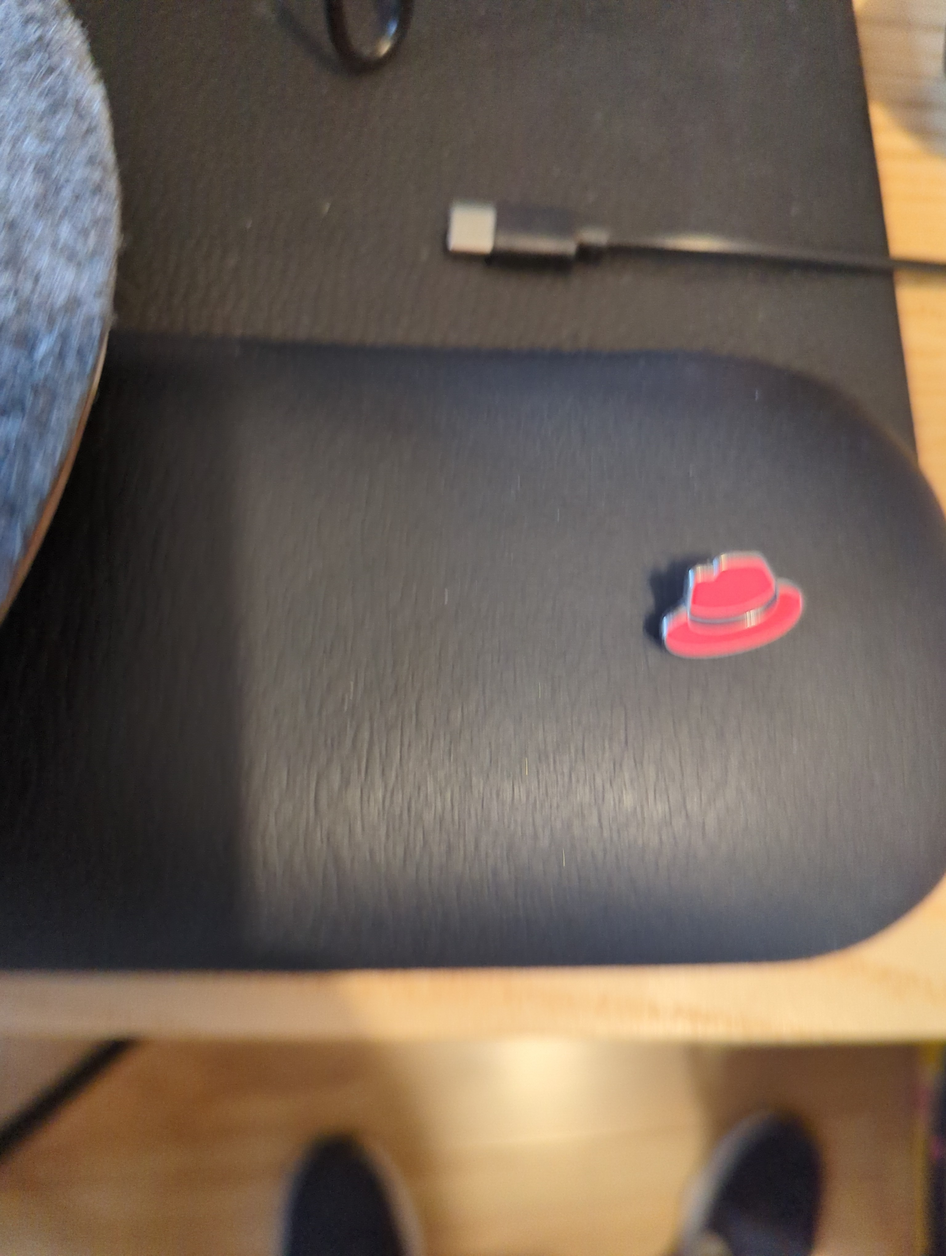Red-Hat: (611, 501, 851, 741)
